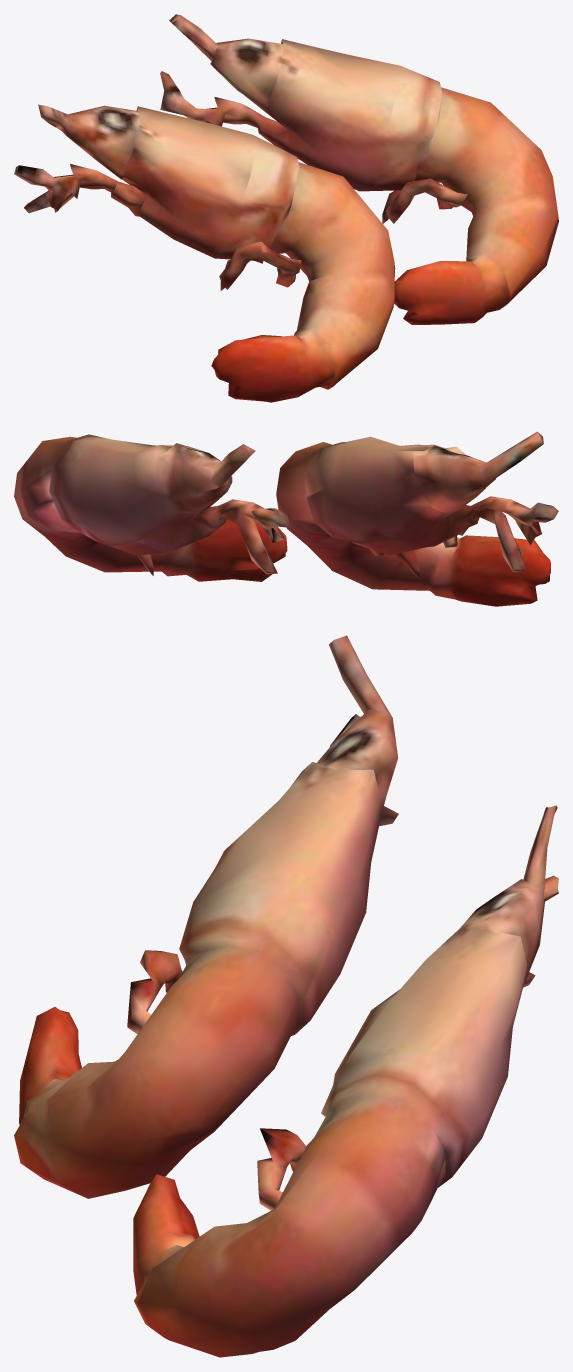
Rendered from prawns.glb.
3 renders of one model, top to bottom at view 1: azimuth 30°, elevation 25°; view 2: azimuth 150°, elevation 25°; view 3: azimuth 270°, elevation 25°, orthographic. The views are drawn at different scales.
Parts seen in each view (by area): view 1: Prawns; view 2: Prawns; view 3: Prawns.
Part boxes in pixels (x1,y1,x2,y2): Prawns: (14,14,558,402); Prawns: (14,431,558,606); Prawns: (14,635,558,1357).
Bounding box in the file's own units: 1.98 × 0.9753 × 1.18.
1 material, 1 textured.
